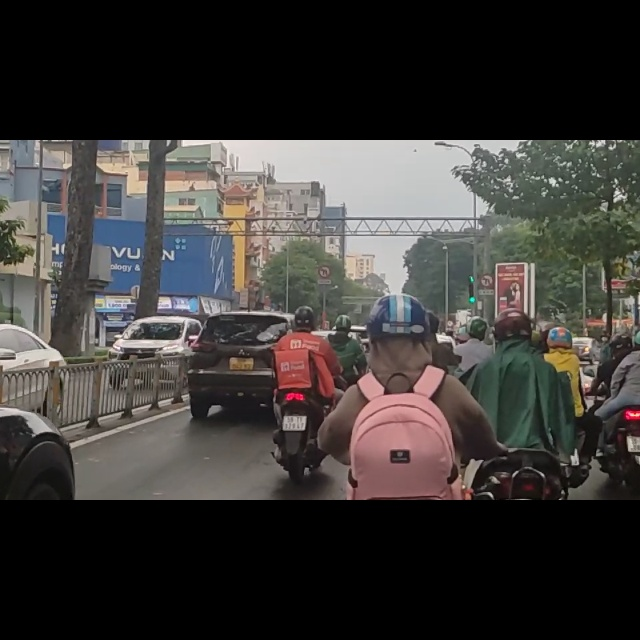bien_cam: (481, 239, 494, 262), (318, 222, 331, 244)
